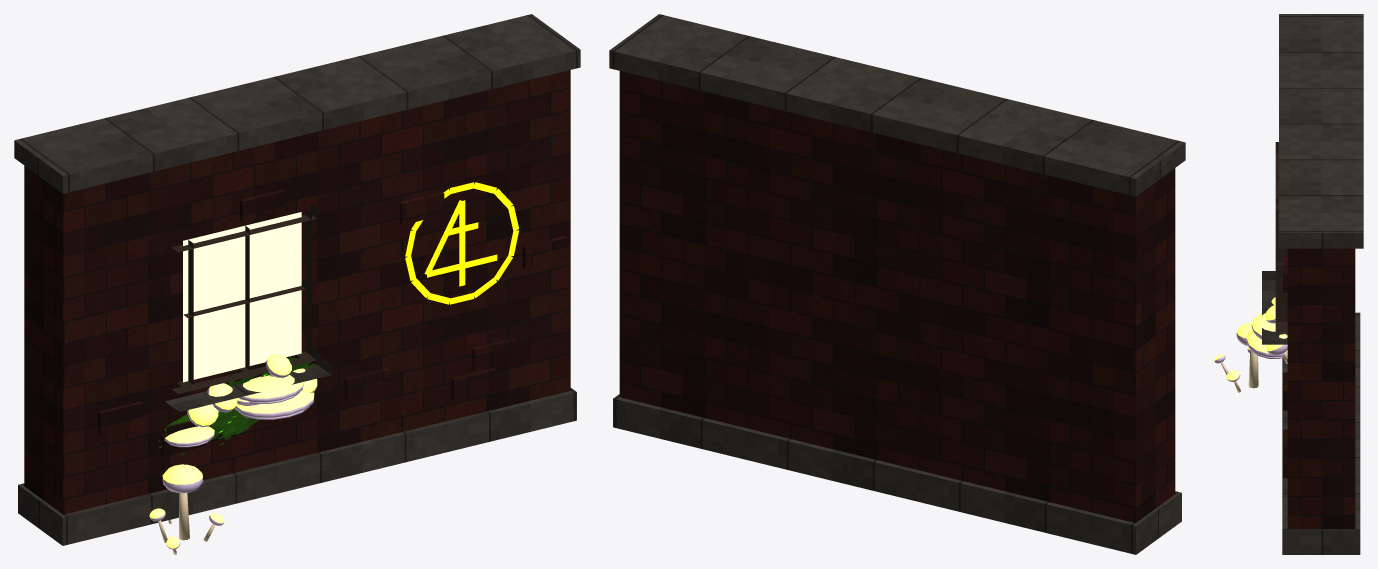
Rendered from pilz_wand_fenster.glb.
The picture shows the model from 3 angles, left to right: view 1: azimuth 30°, elevation 25°; view 2: azimuth 150°, elevation 25°; view 3: azimuth 270°, elevation 25°; orthographic projection. The views are drawn at different scales.
Visible parts, largest first — view 1: pilz_wand_fenster; view 2: pilz_wand_fenster; view 3: pilz_wand_fenster.
Boxes of the visible parts, <box> form: pilz_wand_fenster: <box>14,14,580,554</box>; pilz_wand_fenster: <box>609,14,1185,554</box>; pilz_wand_fenster: <box>1214,14,1363,554</box>.
Bounding box in the file's own units: 3.06 × 2.13 × 0.8828.
Materials: 9 (3 with a texture image).
